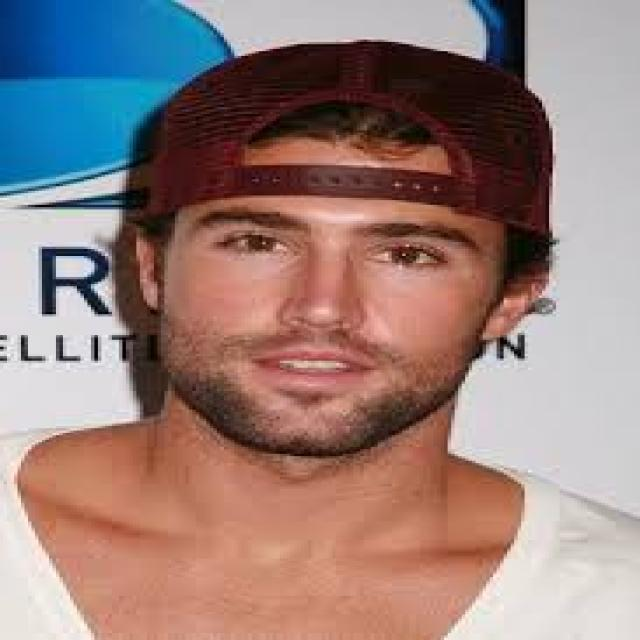cap: (105, 18, 570, 330)
